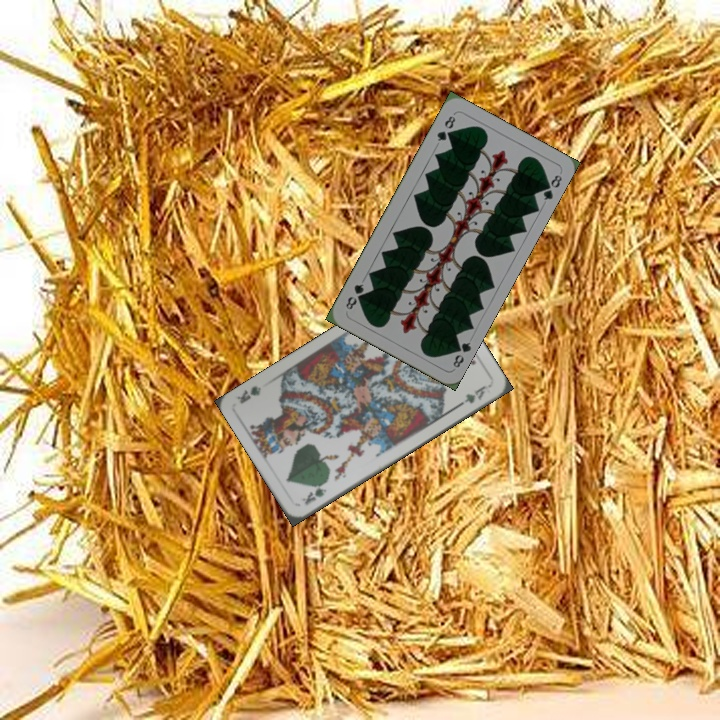G8: (433, 111, 458, 144), (448, 337, 473, 370)
GK: (298, 477, 330, 508)
